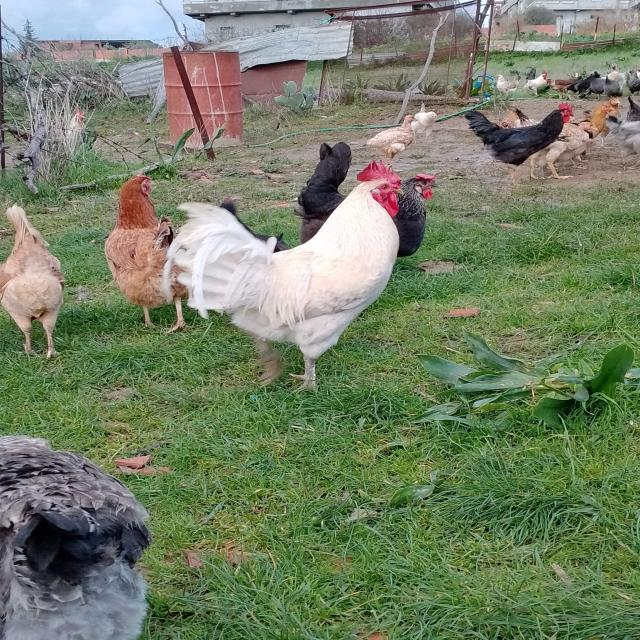Healthy: (165, 158, 407, 403), (1, 193, 88, 367)
